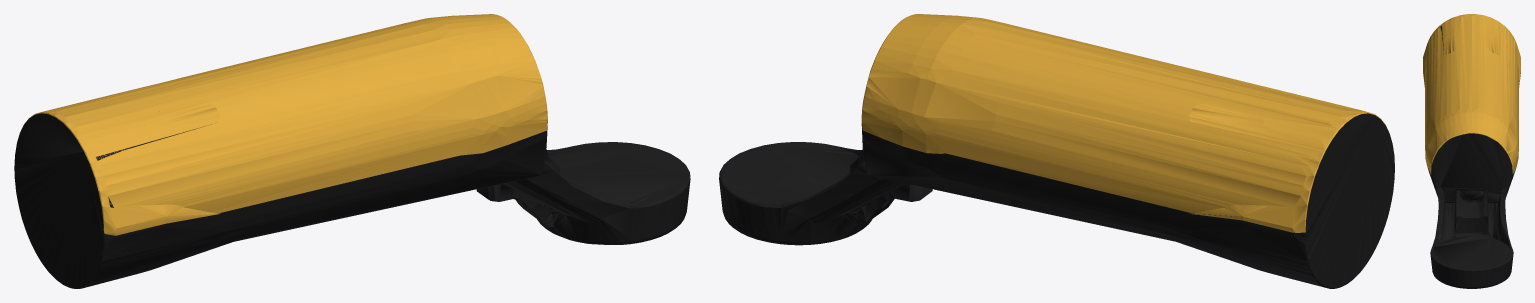
File: arm_link_el1.obj
3 views of the same model, side by side, from view 1: azimuth 30°, elevation 25°; view 2: azimuth 150°, elevation 25°; view 3: azimuth 270°, elevation 25° (orthographic). The views are drawn at different scales.
Parts seen in each view (by area): view 1: arm0.link_el1.002_wrap, arm0.link_el1.002_BlackAbs; view 2: arm0.link_el1.002_wrap, arm0.link_el1.002_BlackAbs; view 3: arm0.link_el1.002_wrap, arm0.link_el1.002_BlackAbs.
Boxes of the visible parts, x1=… form: arm0.link_el1.002_wrap: x1=17, y1=14, x2=547, y2=235; arm0.link_el1.002_BlackAbs: x1=14, y1=113, x2=690, y2=288; arm0.link_el1.002_wrap: x1=861, y1=14, x2=1394, y2=232; arm0.link_el1.002_BlackAbs: x1=719, y1=113, x2=1394, y2=288; arm0.link_el1.002_wrap: x1=1423, y1=14, x2=1520, y2=174; arm0.link_el1.002_BlackAbs: x1=1427, y1=26, x2=1520, y2=288.
Size of the model in its own units: 0.2973 by 0.1058 by 0.0782.
